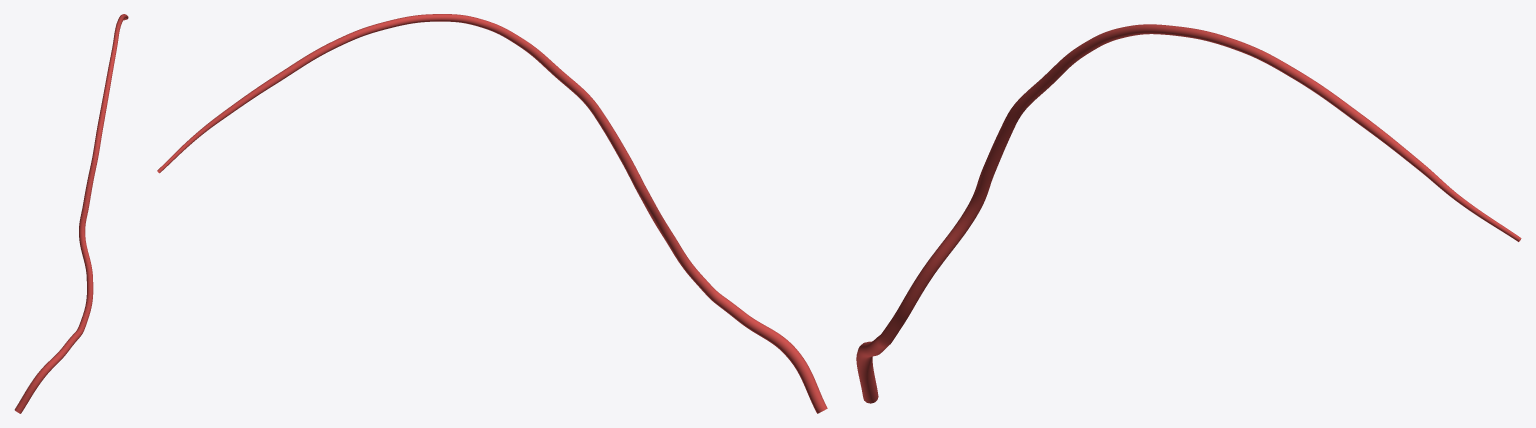
The picture shows the model from 3 angles, left to right: view 1: azimuth 30°, elevation 25°; view 2: azimuth 150°, elevation 25°; view 3: azimuth 270°, elevation 25°; orthographic projection. The views are drawn at different scales.
Visible parts, largest first — view 1: 左侧肋下动脉; view 2: 左侧肋下动脉; view 3: 左侧肋下动脉.
Part boxes in pixels (box(x1,y1,x2,y2)): 左侧肋下动脉: box(14, 14, 128, 413); 左侧肋下动脉: box(157, 14, 827, 413); 左侧肋下动脉: box(856, 24, 1521, 403).
Size of the model in its own units: 0.1127 by 0.1091 by 0.1201.
